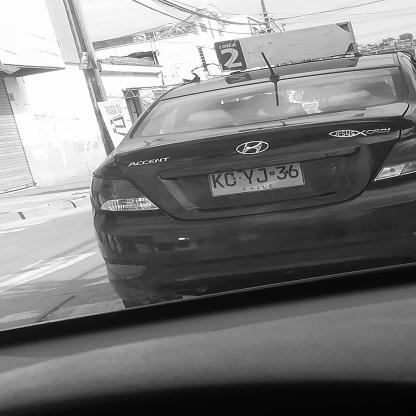Patente: (205, 160, 309, 199)
